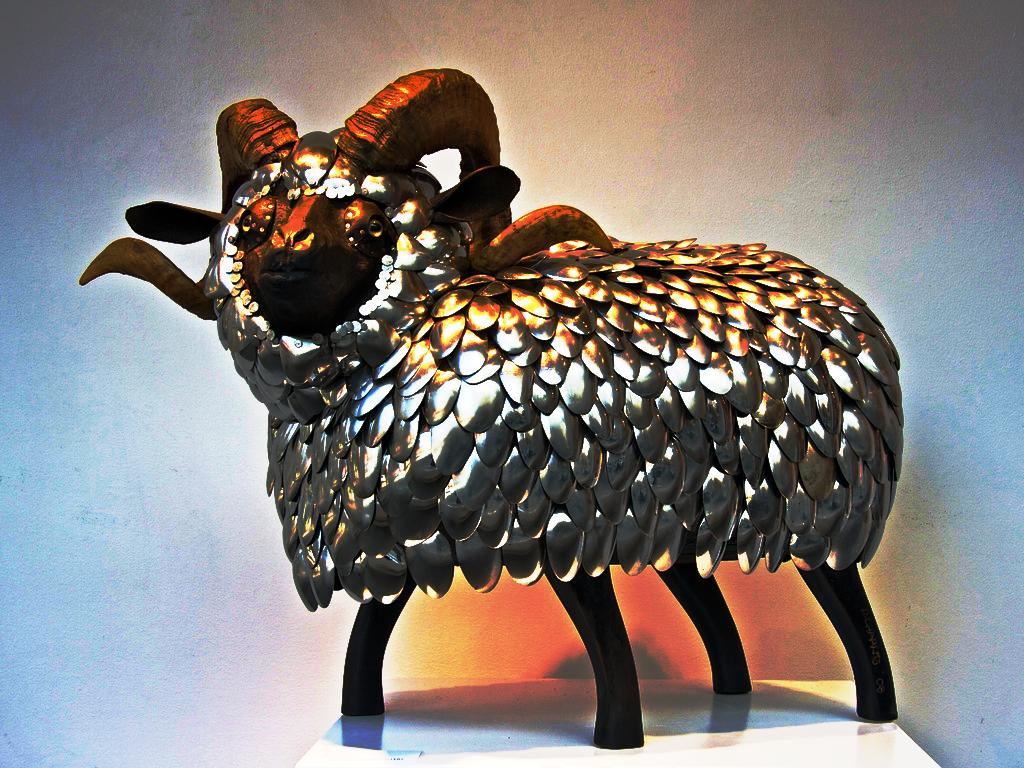Sheep: (76, 64, 902, 753)
